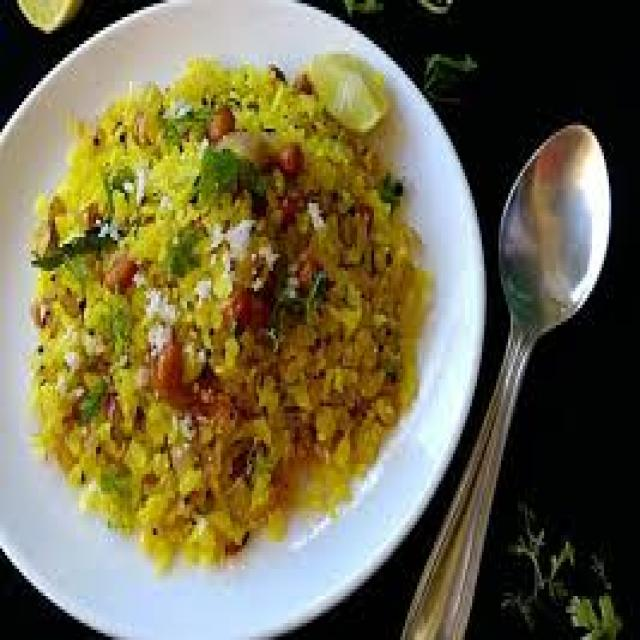POHA: (25, 59, 423, 591)
